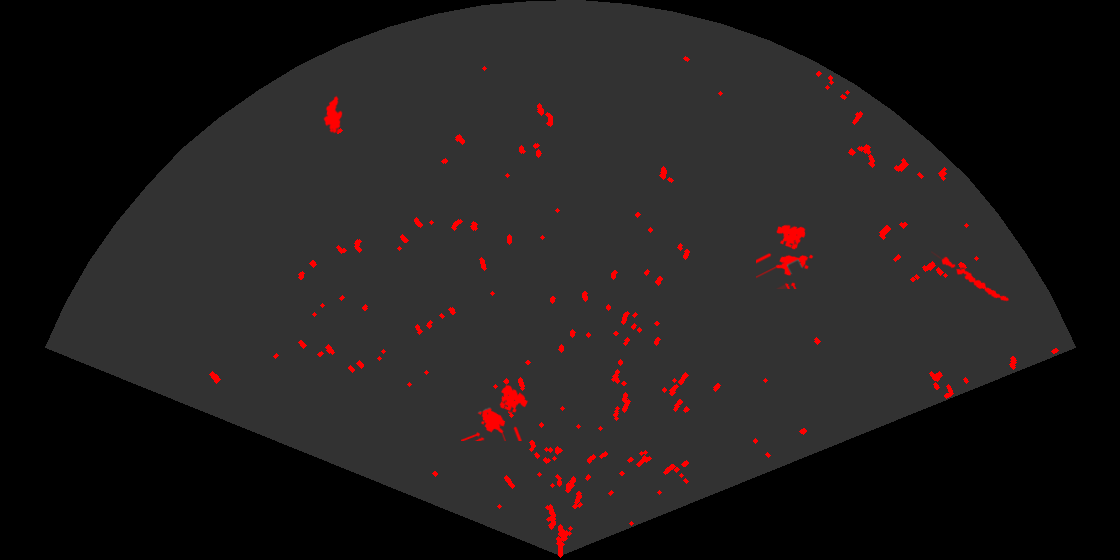AUV: (322, 94, 344, 135)
cage: (461, 383, 530, 441), (756, 223, 815, 289)
chain: (931, 250, 1011, 303)
